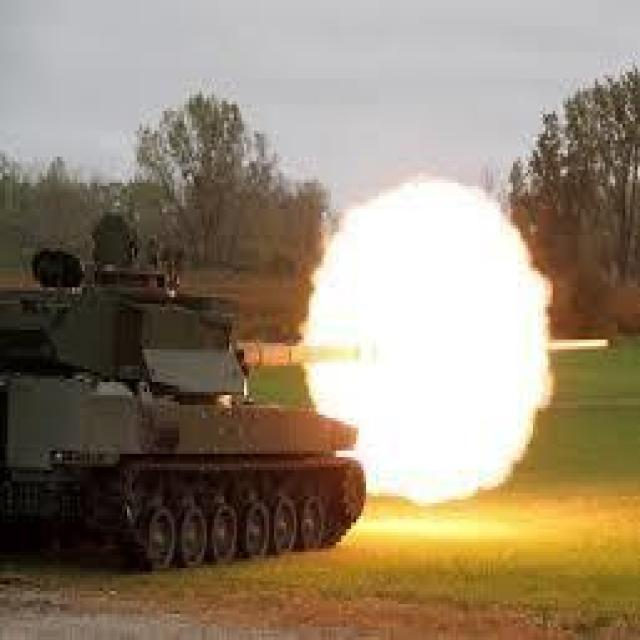Tanks: (12, 224, 384, 560)
